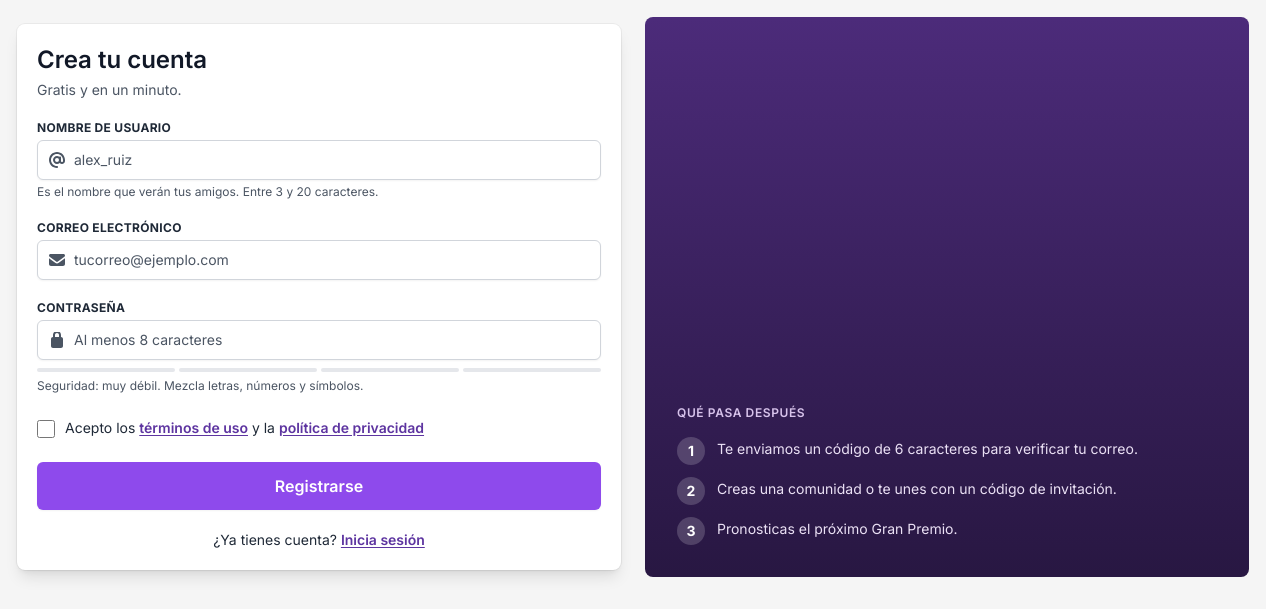
Scenario: registro page › shows a duplicated email under its field
In the field labelled "Nombre de usuario": (319, 160) [37,140,601,180], type "piloto1"
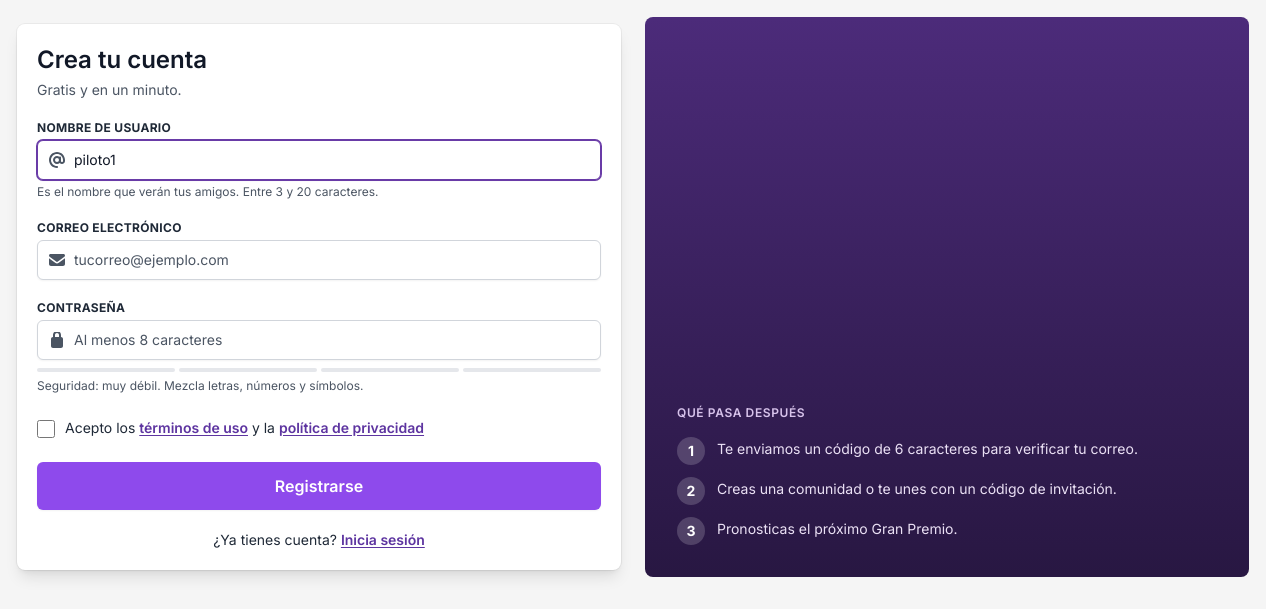
In the field labelled "Correo electrónico": (319, 260) [37,240,601,280], type "a@b.es"
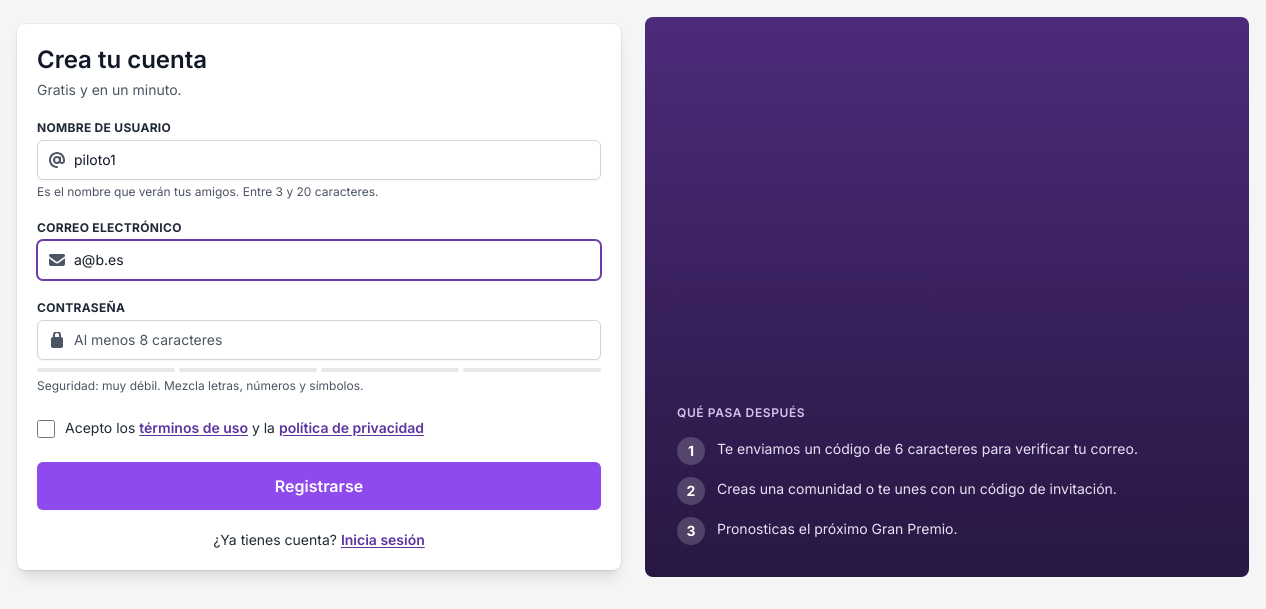
In the password field labelled "Contraseña": (319, 340) [37,320,601,360], type "Abcdefg1"
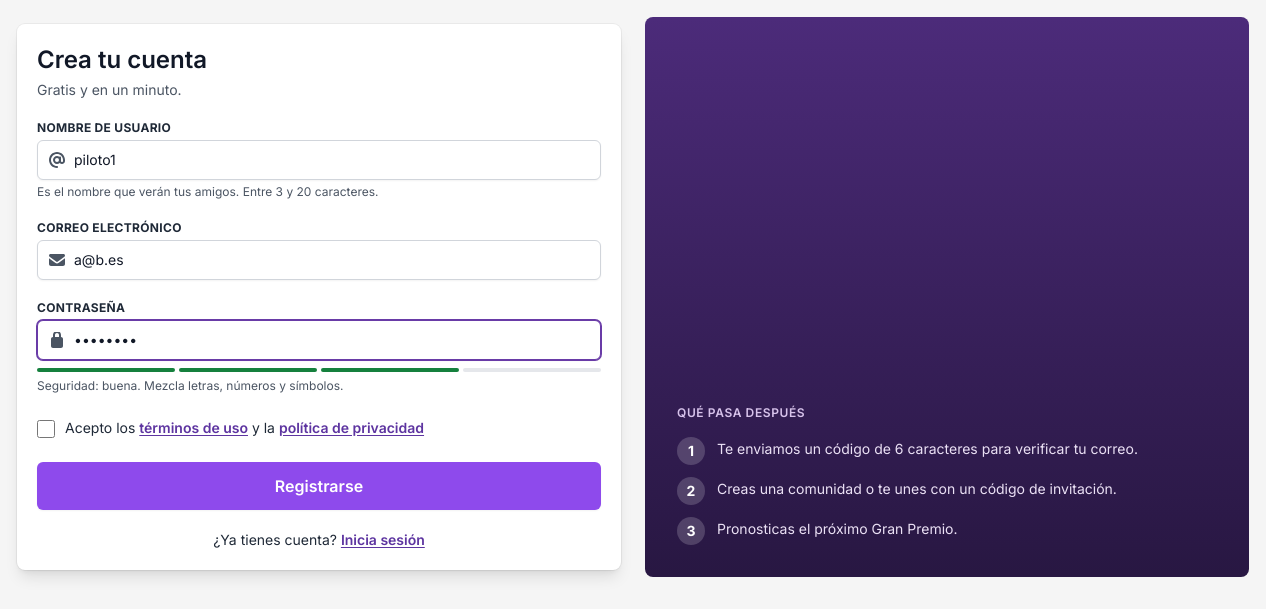
Click the checkbox: (46, 429) [37,420,55,438]
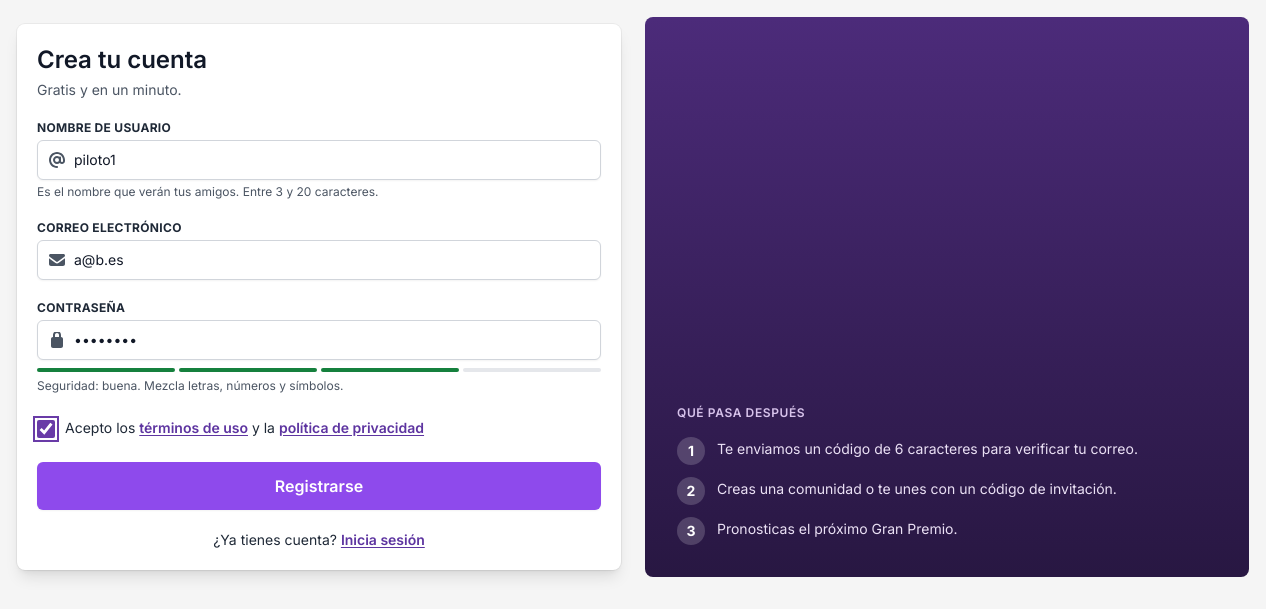
Click the button "Registrarse": (319, 486) [37,462,601,510]
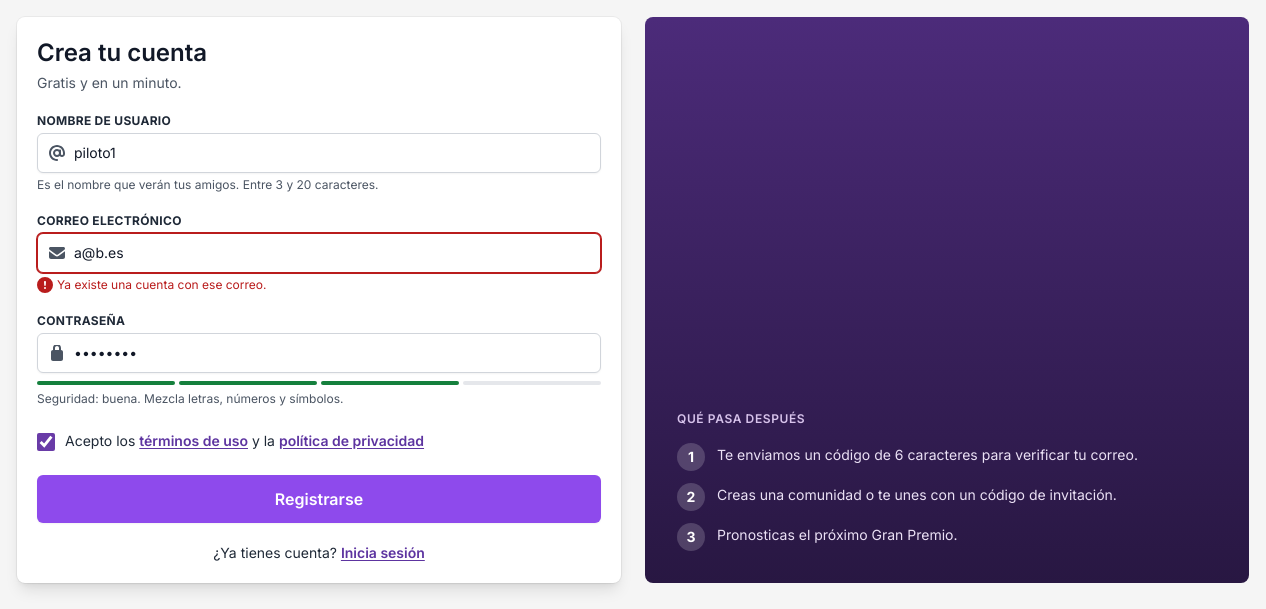
Expected: the text "Ya existe una cuenta con ese correo." is shown, [57,277,266,293]
